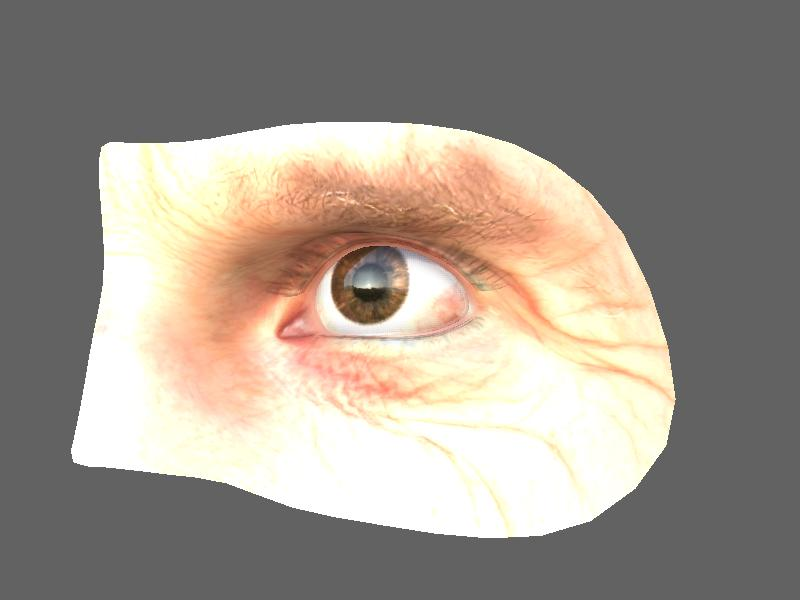iris: (327, 242, 423, 319)
